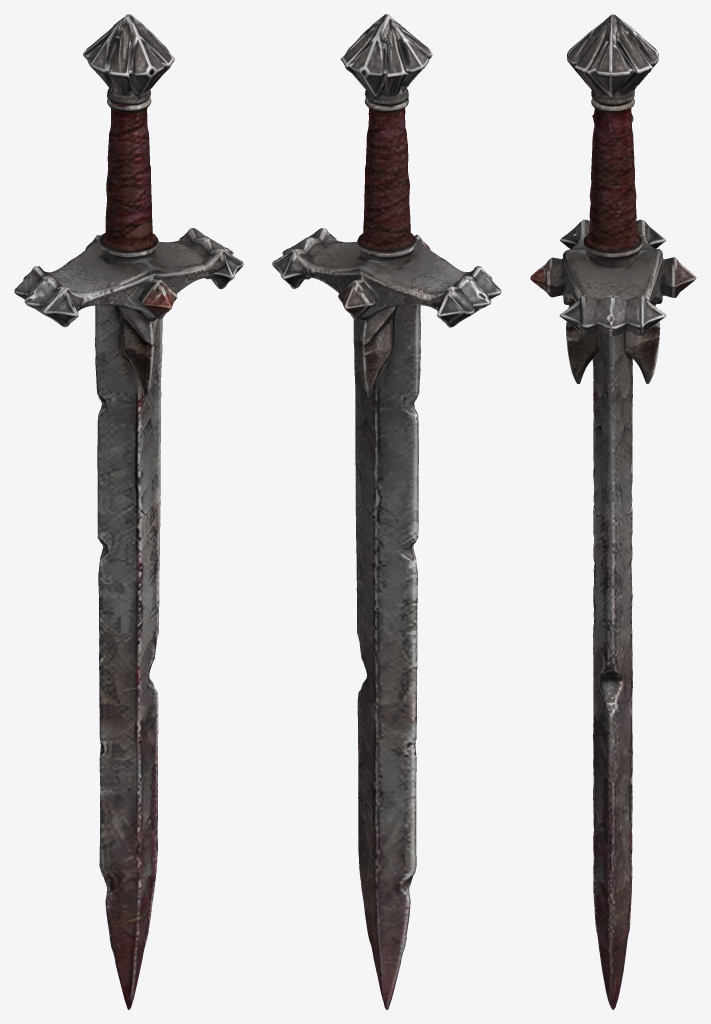
The model's file is warrior_weapon.obj.
3 renders of one model, left to right at view 1: azimuth 30°, elevation 25°; view 2: azimuth 150°, elevation 25°; view 3: azimuth 270°, elevation 25°, orthographic.
Visible parts, largest first — view 1: warrior_weapon; view 2: warrior_weapon; view 3: warrior_weapon.
Boxes of the visible parts, x1=… form: warrior_weapon: x1=14, y1=14, x2=243, y2=1009; warrior_weapon: x1=272, y1=14, x2=501, y2=1009; warrior_weapon: x1=530, y1=14, x2=696, y2=1009.
Bounding box in the file's own units: 0.2143 × 0.9838 × 0.1488.
Materials: 1 (1 with a texture image).
